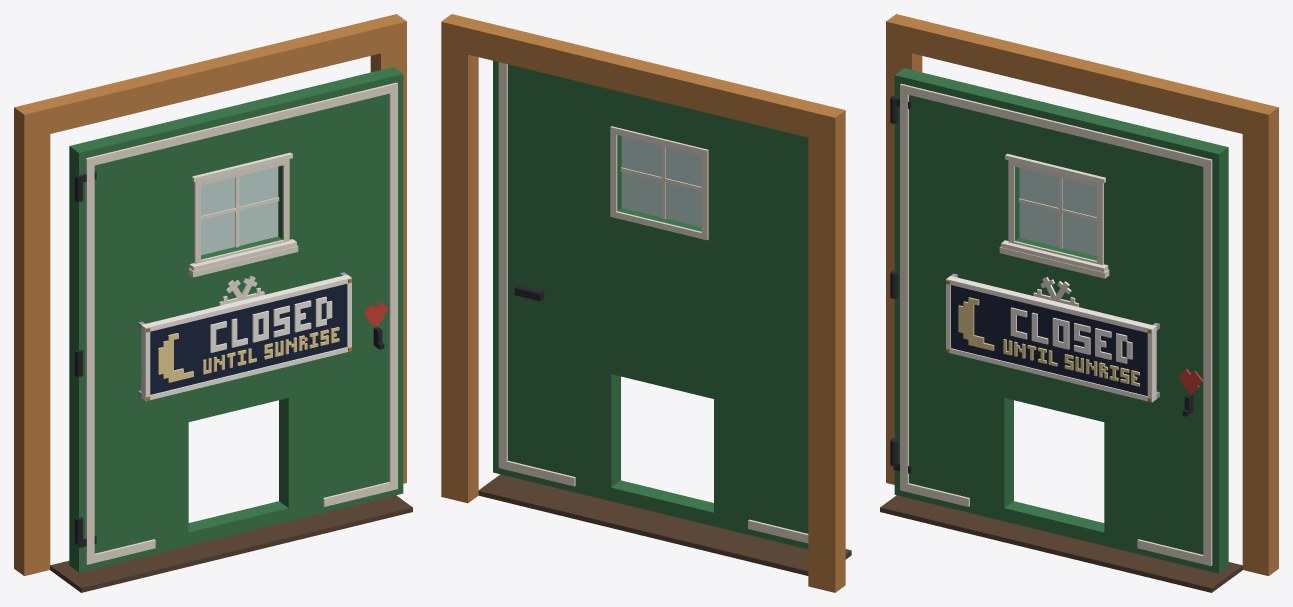
Rendered from CatCafe_Door_Chalet_Back.glb.
3 renders of one model, left to right at view 1: azimuth 30°, elevation 25°; view 2: azimuth 150°, elevation 25°; view 3: azimuth 330°, elevation 25°, orthographic. The views are drawn at different scales.
Visible parts, largest first — view 1: CatCafe_Door_Chalet_Back_Leaf, CatCafe_Door_Chalet_Back, CatCafe_Door_Chalet_Back_Sign, CatCafe_Door_Chalet_Back_Leaf_Glass, CatCafe_Door_Chalet_Back_Sign_Bulb; view 2: CatCafe_Door_Chalet_Back_Leaf, CatCafe_Door_Chalet_Back, CatCafe_Door_Chalet_Back_Leaf_Glass; view 3: CatCafe_Door_Chalet_Back_Leaf, CatCafe_Door_Chalet_Back, CatCafe_Door_Chalet_Back_Sign, CatCafe_Door_Chalet_Back_Leaf_Glass, CatCafe_Door_Chalet_Back_Sign_Bulb.
Part boxes in pixels (x1,y1,x2,y2): CatCafe_Door_Chalet_Back_Leaf: [69, 67, 403, 572]; CatCafe_Door_Chalet_Back: [14, 14, 412, 592]; CatCafe_Door_Chalet_Back_Sign: [138, 272, 351, 401]; CatCafe_Door_Chalet_Back_Leaf_Glass: [201, 166, 278, 255]; CatCafe_Door_Chalet_Back_Sign_Bulb: [158, 327, 339, 382]; CatCafe_Door_Chalet_Back_Leaf: [493, 60, 808, 549]; CatCafe_Door_Chalet_Back: [441, 14, 851, 592]; CatCafe_Door_Chalet_Back_Leaf_Glass: [621, 136, 701, 227]; CatCafe_Door_Chalet_Back_Leaf: [890, 68, 1228, 573]; CatCafe_Door_Chalet_Back: [880, 14, 1278, 592]; CatCafe_Door_Chalet_Back_Sign: [946, 273, 1159, 402]; CatCafe_Door_Chalet_Back_Leaf_Glass: [1019, 168, 1096, 256]; CatCafe_Door_Chalet_Back_Sign_Bulb: [958, 297, 1139, 386].
Bounding box in the file's own units: 6.9 × 7.95 × 1.3.
Materials: 1 (1 with a texture image).
